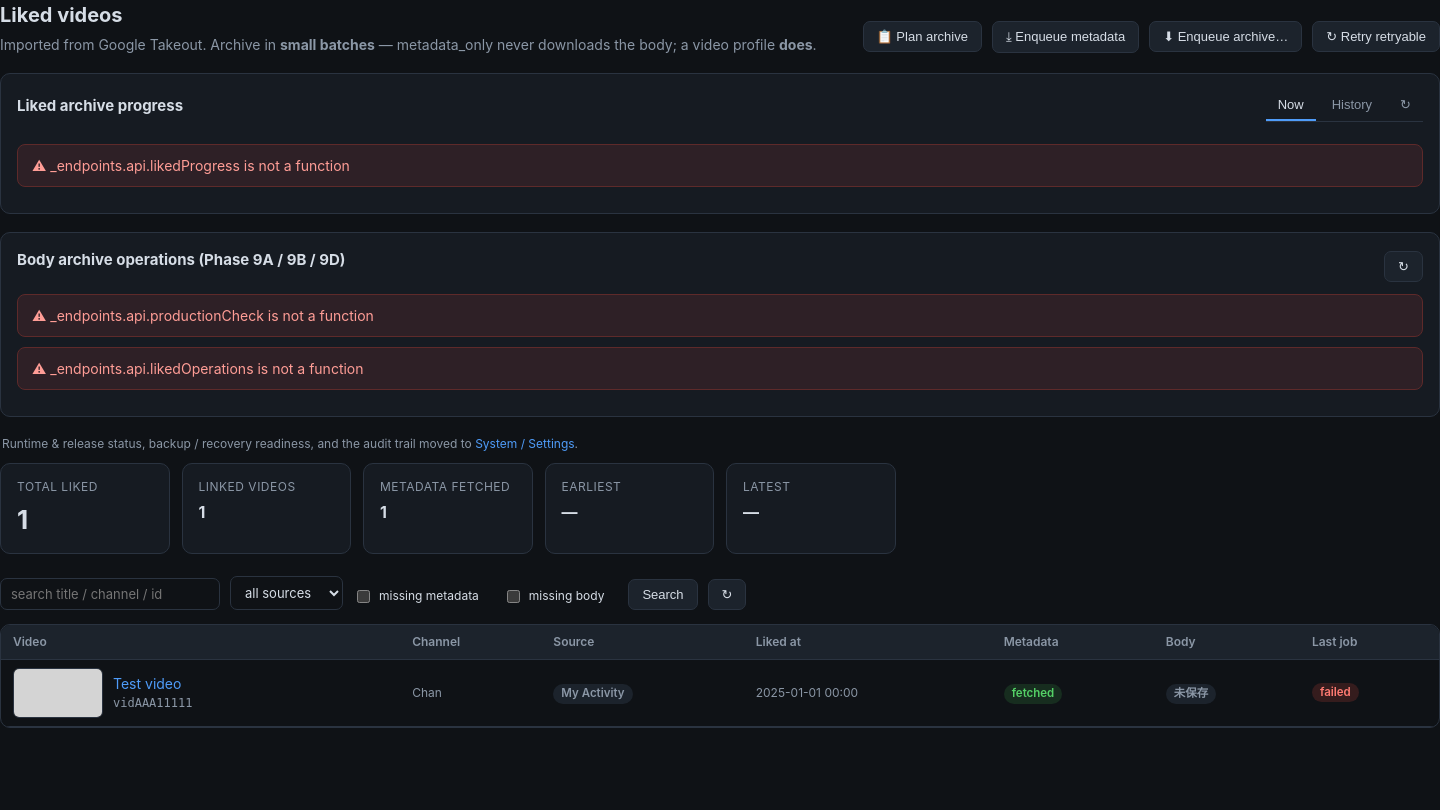
it: Phase 7C liked-videos archive UI › archive modal warns that the video BODY will be downloaded
Check: the link "Test video" is shown, box [113,675,181,692]
Step 1. Click the button "⬇ Enqueue archive…" → (1226, 36), box [1149,21,1302,52]
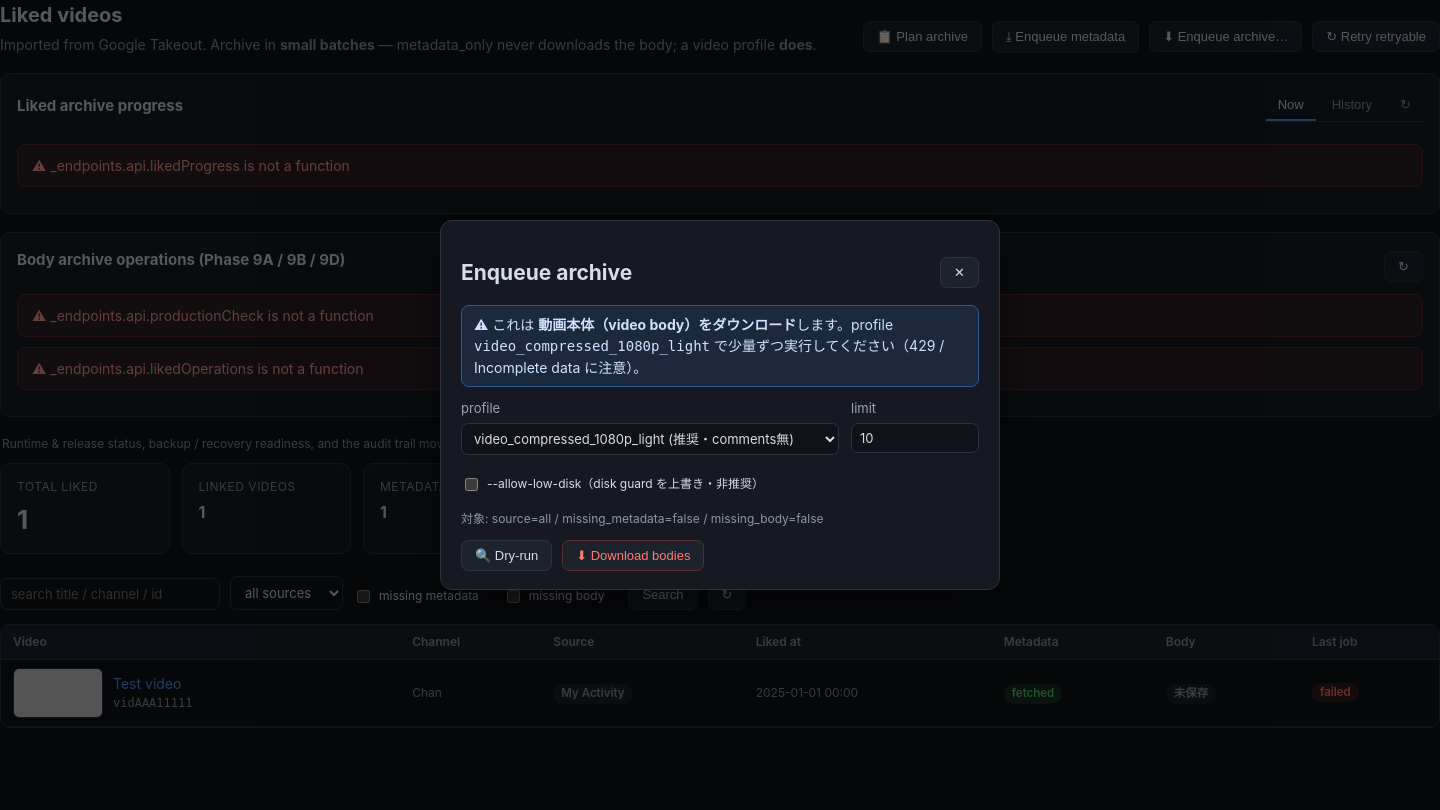
Check: the text "動画本体（video body）をダウンロード" is shown, box [538,316,796,333]
Check: the button "🔍 Dry-run" is shown, box [461,540,552,571]
Check: the button "⬇ Download bodies" is shown, box [562,540,704,571]
